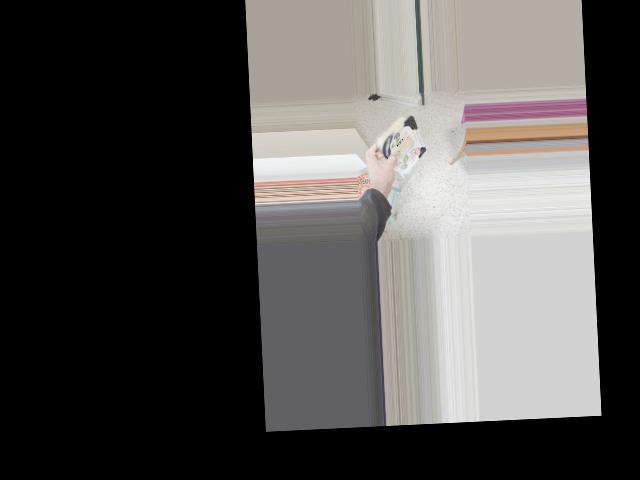cheese: (358, 114, 434, 172)
